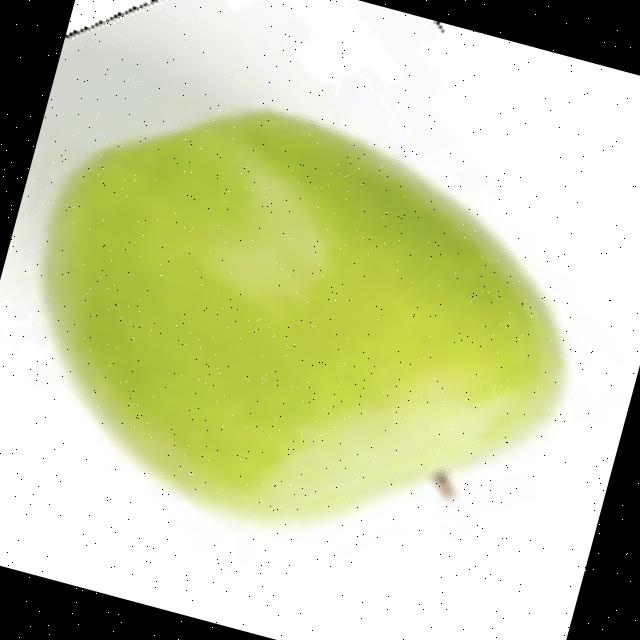apple: (4, 102, 572, 533)
